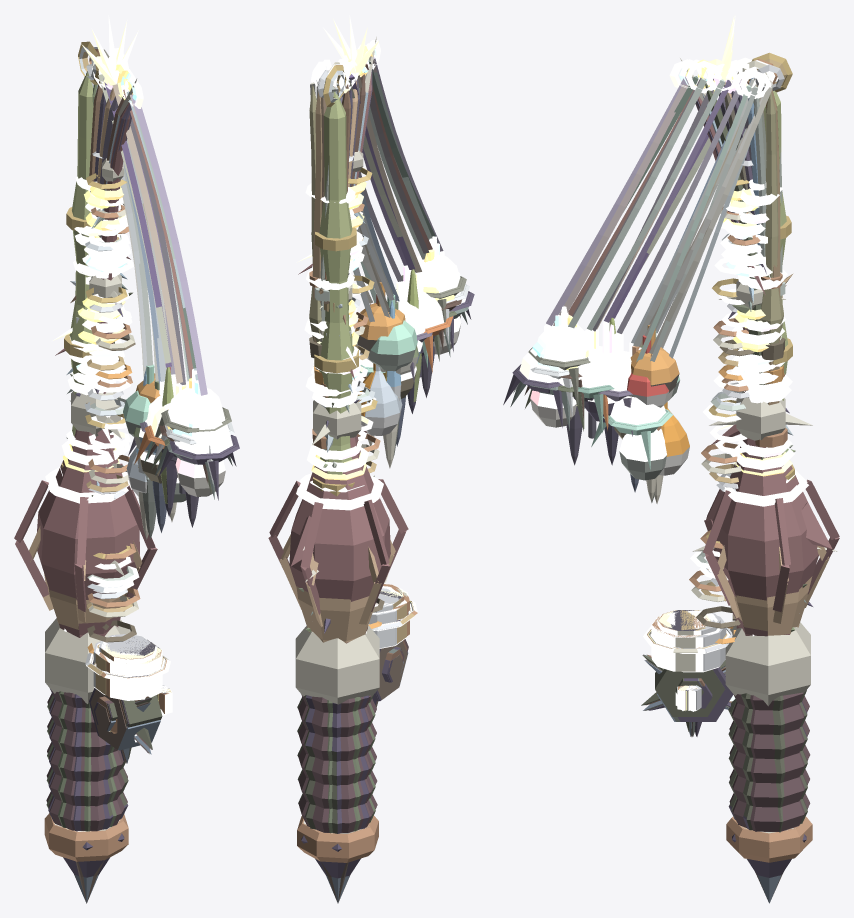
File: rod.glb
The picture shows the model from 3 angles, left to right: view 1: azimuth 30°, elevation 25°; view 2: azimuth 150°, elevation 25°; view 3: azimuth 270°, elevation 25°; orthographic projection. The views are drawn at different scales.
Visible parts, largest first — view 1: Brineheart_Twig, Bonecaster_Twig, Brineheart_Grip, Gatorback_Trim, Rimebound_Trim, Bamboo_Twig, Gloomheart_Grip, Gloomheart_Line, PhoenixAsh_Twig, Gatorback_Grip, PhoenixAsh_Line, Bamboo_Trim (+41 smaller); view 2: Brineheart_Twig, Bonecaster_Twig, Bamboo_Twig, Brineheart_Grip, PhoenixAsh_Twig, Gatorback_Trim, Gloomheart_Grip, Bamboo_Trim, Gatorback_Grip, Twig_Twig, Mireheart_Grip, Bonecaster_BobberTop (+35 smaller); view 3: Brineheart_Twig, Bonecaster_Twig, Brineheart_Grip, Mireheart_Grip, Gatorback_Trim, PhoenixAsh_Twig, Reedlash_Twig, Rimebound_Trim, Reefmaw_Trim, Mireheart_Trim, Mireheart_Line, Aurora_Trim (+44 smaller).
Part boxes in pixels (x1=…): Brineheart_Twig: x1=14, y1=102, x2=157, y2=637; Bonecaster_Twig: x1=45, y1=79, x2=136, y2=703; Brineheart_Grip: x1=46, y1=690, x2=151, y2=831; Gatorback_Trim: x1=44, y1=49, x2=170, y2=861; Rimebound_Trim: x1=55, y1=258, x2=172, y2=831; Bamboo_Twig: x1=69, y1=71, x2=93, y2=446; Gloomheart_Grip: x1=48, y1=689, x2=151, y2=877; Gloomheart_Line: x1=131, y1=95, x2=207, y2=395; PhoenixAsh_Twig: x1=29, y1=88, x2=142, y2=629; Gatorback_Grip: x1=46, y1=691, x2=116, y2=831; PhoenixAsh_Line: x1=112, y1=83, x2=182, y2=383; Bamboo_Trim: x1=61, y1=41, x2=130, y2=559; Brineheart_Twig: x1=268, y1=72, x2=408, y2=643; Bonecaster_Twig: x1=295, y1=37, x2=379, y2=704; Bamboo_Twig: x1=319, y1=91, x2=354, y2=474; Brineheart_Grip: x1=298, y1=639, x2=408, y2=833; PhoenixAsh_Twig: x1=279, y1=81, x2=395, y2=643; Gatorback_Trim: x1=297, y1=65, x2=417, y2=862; Gloomheart_Grip: x1=301, y1=647, x2=400, y2=878; Bamboo_Trim: x1=313, y1=65, x2=377, y2=496; Gatorback_Grip: x1=304, y1=695, x2=375, y2=833; Twig_Twig: x1=312, y1=92, x2=361, y2=403; Mireheart_Grip: x1=297, y1=639, x2=408, y2=833; Bonecaster_BobberTop: x1=416, y1=236, x2=459, y2=292; Brineheart_Twig: x1=696, y1=96, x2=839, y2=636; Bonecaster_Twig: x1=680, y1=58, x2=837, y2=706; Brineheart_Grip: x1=729, y1=692, x2=810, y2=831; Mireheart_Grip: x1=641, y1=655, x2=807, y2=832; Gatorback_Trim: x1=647, y1=59, x2=812, y2=862; PhoenixAsh_Twig: x1=717, y1=81, x2=829, y2=635; Reedlash_Twig: x1=760, y1=92, x2=783, y2=344; Rimebound_Trim: x1=643, y1=60, x2=792, y2=828; Reefmaw_Trim: x1=649, y1=60, x2=805, y2=833; Mireheart_Trim: x1=686, y1=61, x2=794, y2=636; Mireheart_Line: x1=568, y1=78, x2=706, y2=328; Aurora_Trim: x1=666, y1=70, x2=796, y2=710.
Bounding box in the file's own units: 1.23 × 8.39 × 2.87.
